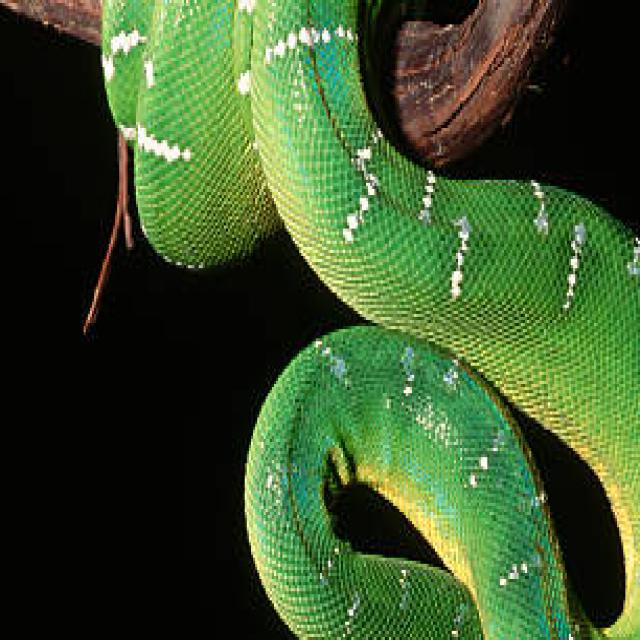snake: (83, 0, 640, 640)
